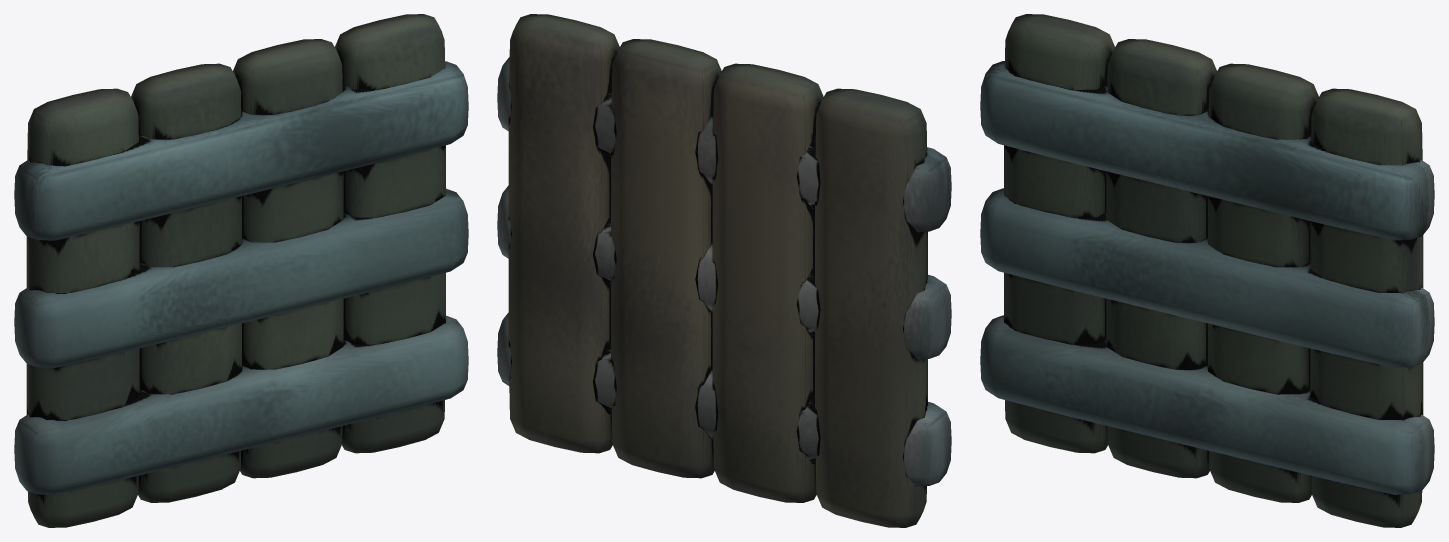
The model's file is Door1.fbx.
3 renders of one model, left to right at view 1: azimuth 30°, elevation 25°; view 2: azimuth 150°, elevation 25°; view 3: azimuth 330°, elevation 25°, orthographic.
Visible parts, largest first — view 1: Cube.030; view 2: Cube.030; view 3: Cube.030.
Boxes of the visible parts, x1=… form: Cube.030: x1=14, y1=14, x2=468, y2=527; Cube.030: x1=497, y1=14, x2=951, y2=527; Cube.030: x1=980, y1=14, x2=1434, y2=527.
Bounding box in the file's own units: 363 × 331 × 54.32.
Materials: 1 (1 with a texture image).
